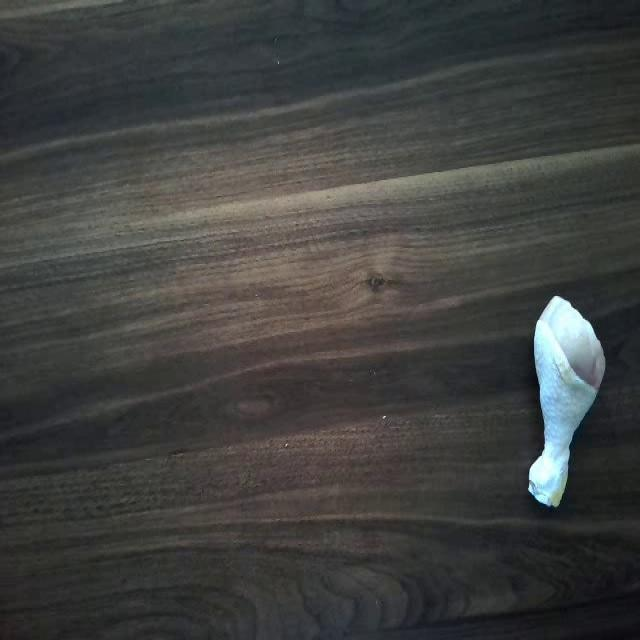leg: (519, 298, 609, 512)
